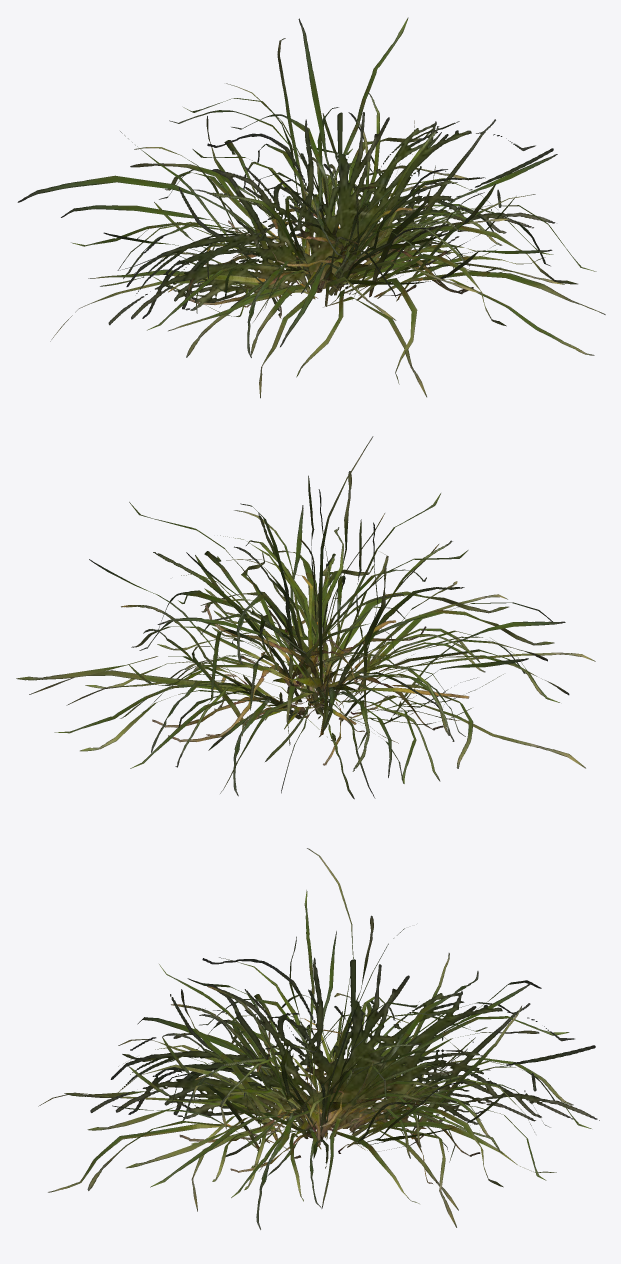
Rendered from grass_medium_01_large_b_LOD1.glb.
3 renders of one model, top to bottom at view 1: azimuth 30°, elevation 25°; view 2: azimuth 150°, elevation 25°; view 3: azimuth 270°, elevation 25°, orthographic. The views are drawn at different scales.
Visible parts, largest first — view 1: grass_medium_01_large_b_LOD1__lod0; view 2: grass_medium_01_large_b_LOD1__lod0; view 3: grass_medium_01_large_b_LOD1__lod0.
Boxes of the visible parts, left/top/right/bottom form: grass_medium_01_large_b_LOD1__lod0: left=17, top=17, right=605, bottom=398; grass_medium_01_large_b_LOD1__lod0: left=16, top=436, right=595, bottom=799; grass_medium_01_large_b_LOD1__lod0: left=38, top=848, right=599, bottom=1229.
Size of what is drawn, in the model's own units: 0.291 by 0.1651 by 0.291.
1 material, 1 textured.
